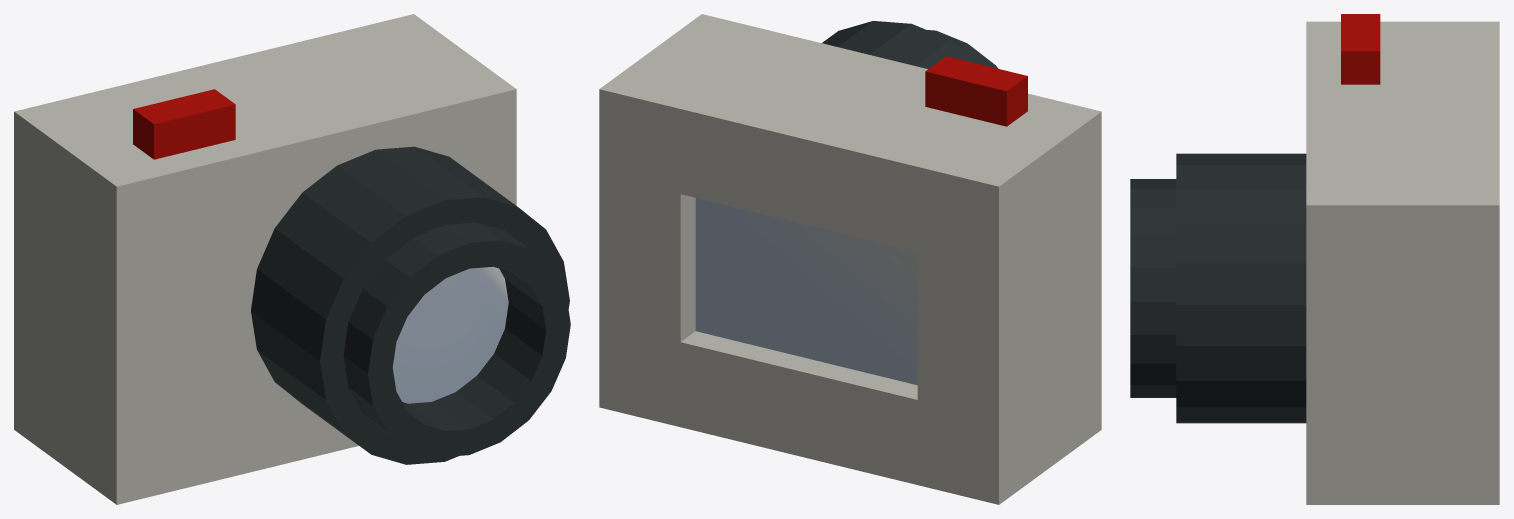
The model's file is camera.fbx.
The picture shows the model from 3 angles, left to right: view 1: azimuth 30°, elevation 25°; view 2: azimuth 150°, elevation 25°; view 3: azimuth 270°, elevation 25°; orthographic projection. The views are drawn at different scales.
Parts seen in each view (by area): view 1: camera; view 2: camera; view 3: camera.
Boxes of the visible parts, x1,y1,x2,y2 form: camera: (14, 14, 570, 504); camera: (599, 14, 1101, 504); camera: (1130, 14, 1499, 504).
Bounding box in the file's own units: 0.6115 × 0.5168 × 0.52.
